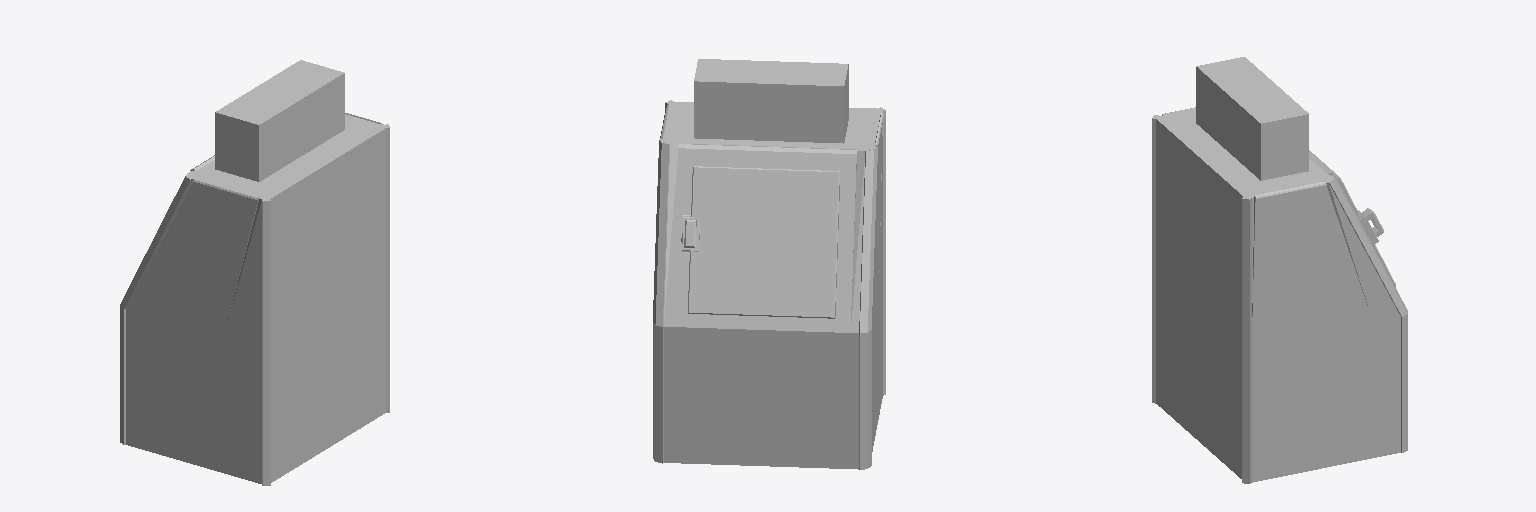
The model's file is Icebox.obj.
3 renders of one model, left to right at view 1: azimuth 30°, elevation 25°; view 2: azimuth 150°, elevation 25°; view 3: azimuth 270°, elevation 25°, orthographic.
Visible parts, largest first — view 1: Ice_Box; view 2: Ice_Box; view 3: Ice_Box.
Boxes of the visible parts, box(x1,y1,x2,y2) form: Ice_Box: box(120, 60, 389, 485); Ice_Box: box(653, 59, 885, 469); Ice_Box: box(1152, 57, 1407, 483).
Size of the model in its own units: 1.98 by 2.73 by 1.86.